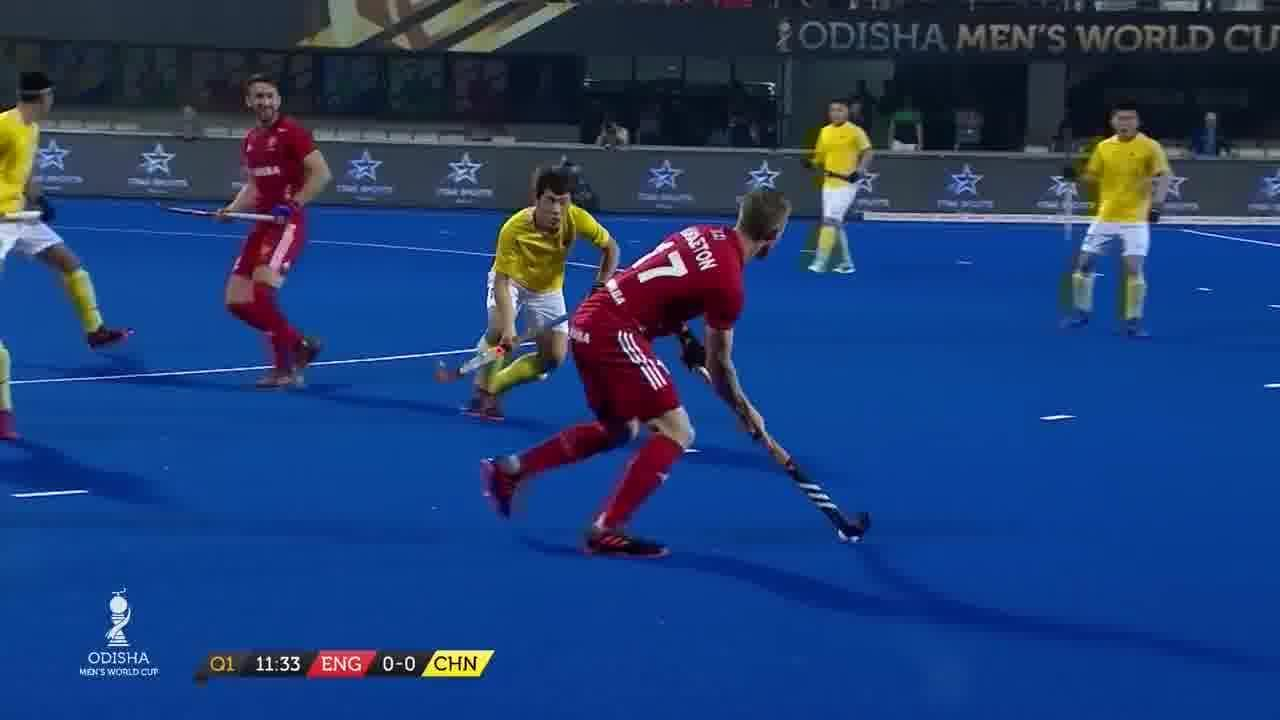ball: (829, 500, 872, 544)
